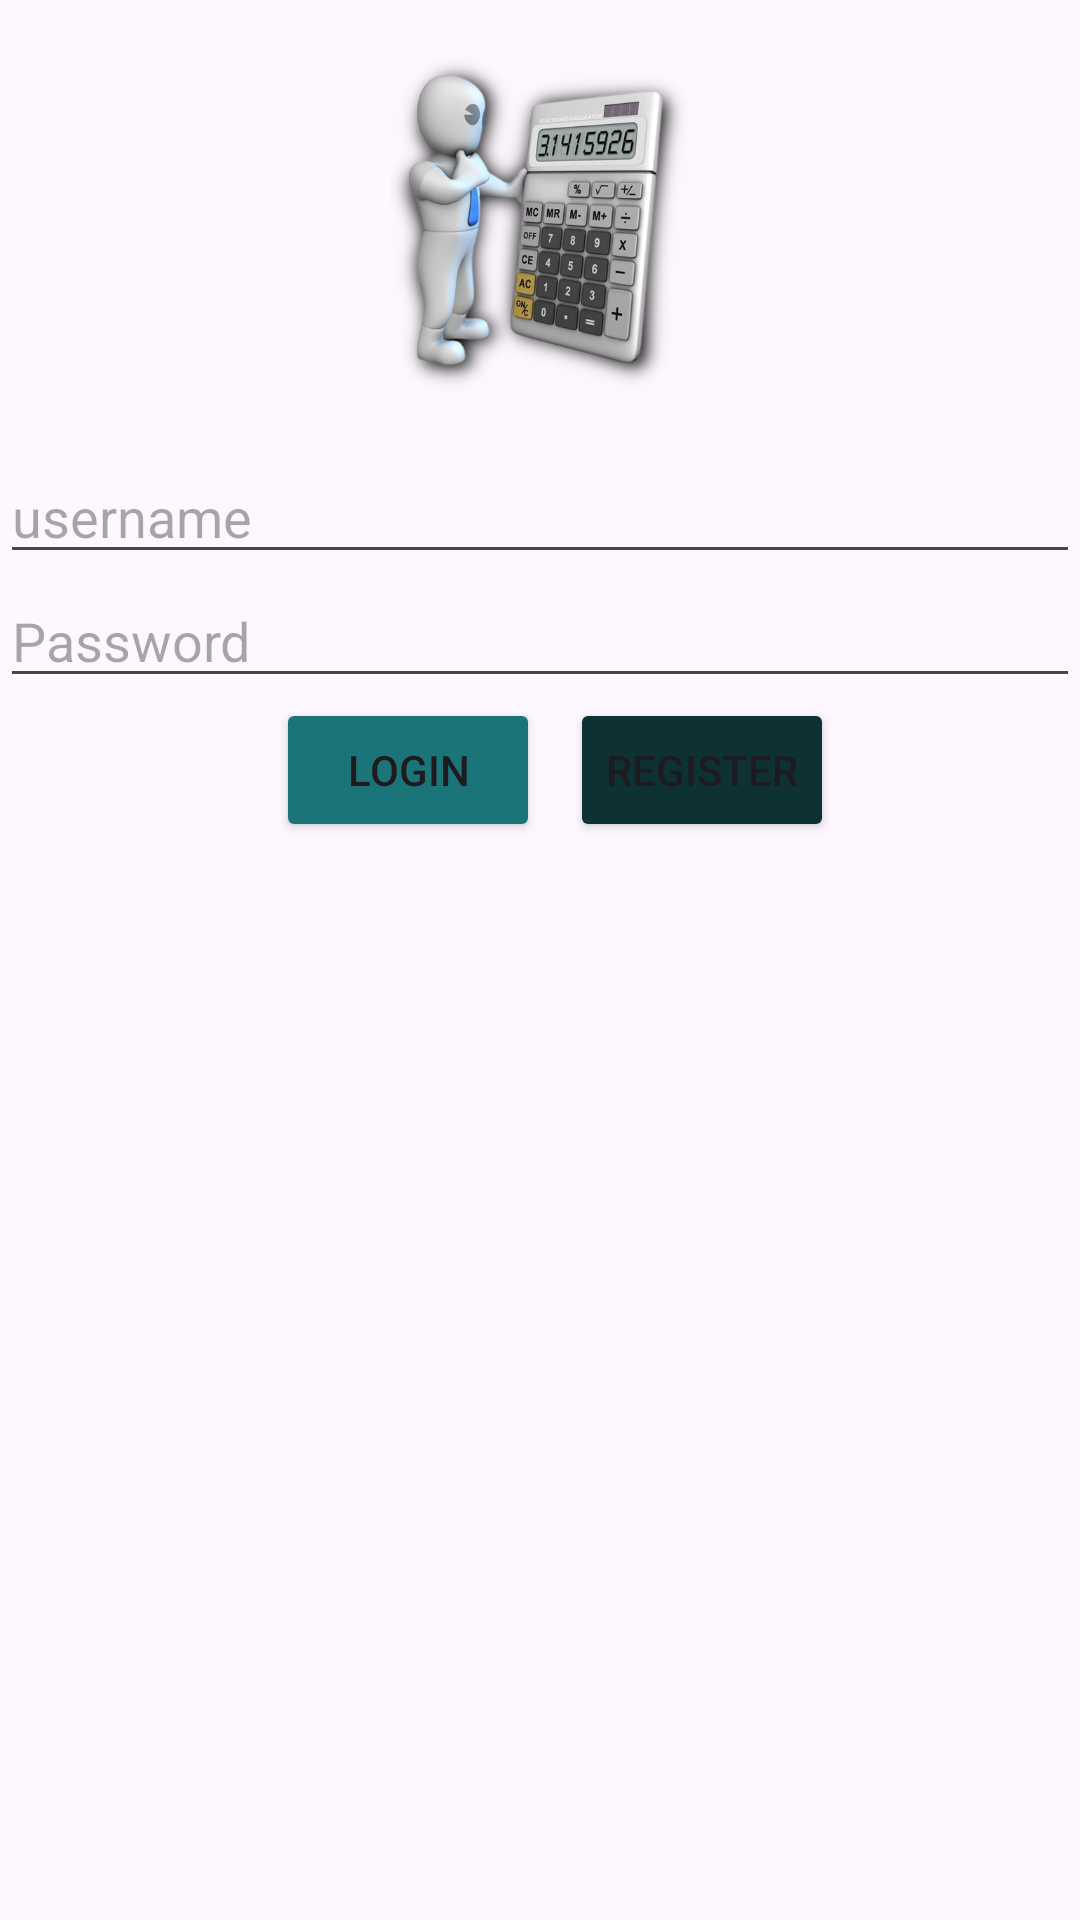

Icon click points for this 1080×1920 phone screenshot, format (x,y):
gambarkalkulator: (538,223)
